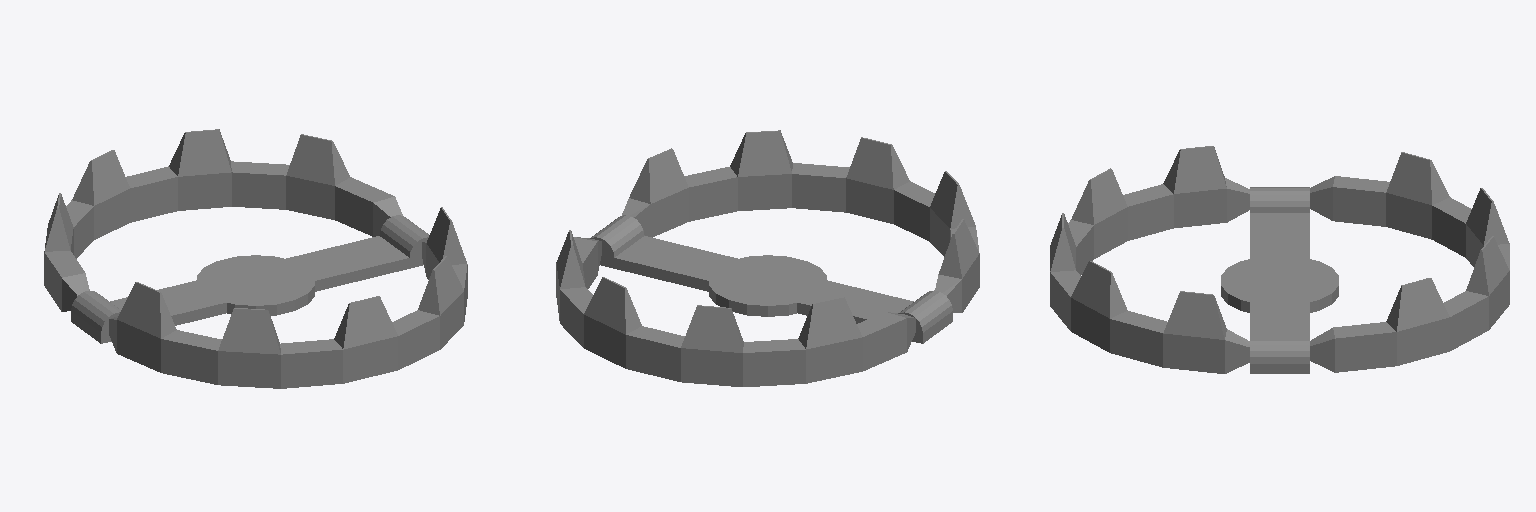
File: trap.obj
3 renders of one model, left to right at view 1: azimuth 30°, elevation 25°; view 2: azimuth 150°, elevation 25°; view 3: azimuth 270°, elevation 25°, orthographic.
Visible parts, largest first — view 1: Tube001, Tube002, Cylinder001; view 2: Tube001, Tube002, Cylinder001; view 3: Tube001, Tube002, Cylinder001.
Part boxes in pixels (x1,y1,x2,y2): Tube001: (109, 207, 467, 388); Tube002: (44, 129, 402, 311); Cylinder001: (71, 215, 428, 343); Tube001: (622, 130, 979, 312); Tube002: (556, 230, 915, 386); Cylinder001: (590, 215, 952, 343); Tube001: (1050, 146, 1249, 373); Tube002: (1310, 152, 1509, 372); Cylinder001: (1221, 187, 1338, 373).
Bounding box in the file's own units: 13.41 × 2.79 × 15.7.